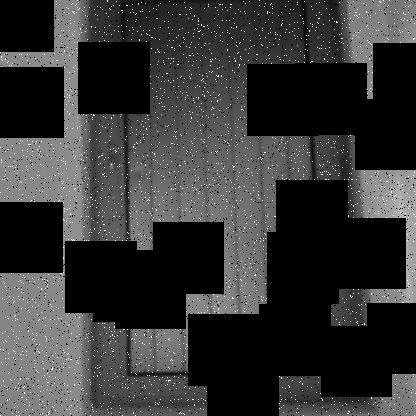Porte: (86, 0, 372, 411)
